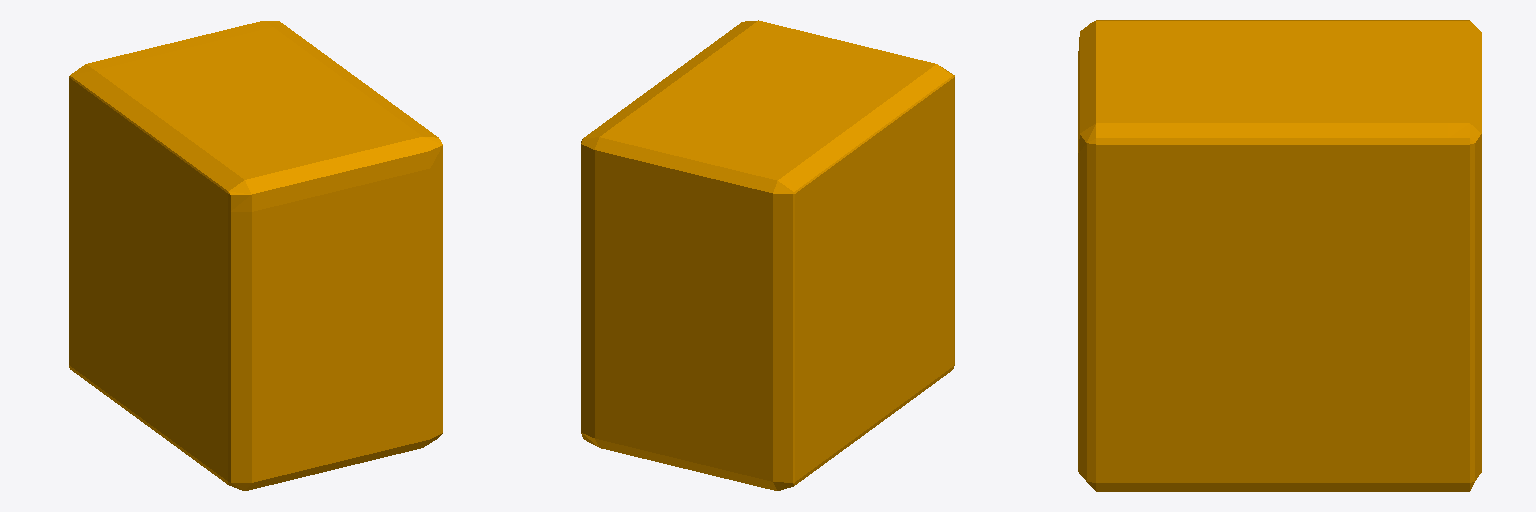
The robot description file, URDF, robot "cylinder_box_66":
<?xml version="1.0" encoding="utf-8"?>  <robot name="cylinder_box_66">   <link name="cylinder_box_66">     <visual>       <geometry>         <mesh filename="../meshes/box/box_66.stl" scale="1 1 1"/>       </geometry>     </visual>     <collision>       <geometry>         <mesh filename="../meshes/box/box_66.stl" scale="1 1 1"/>       </geometry>     </collision>     <inertial>        <origin         xyz="0 0 0"         rpy="0 0 0" />       <mass value="0.550513750887364"/>       <origin rpy="0 0 0" xyz="0 0 0"/>       <inertia ixx="0.0007641373981233494" ixy="9.392570985122598e-08" ixz="9.555541619845875e-08" iyy="0.0005800617281654367" iyz="-1.374518219266368e-07" izz="0.000577745544917714"/>     </inertial>   </link>  </robot>

--- Render facts (derived) ---
The picture shows the robot from 3 angles, left to right: view 1: azimuth 30°, elevation 25°; view 2: azimuth 150°, elevation 25°; view 3: azimuth 270°, elevation 25°; orthographic projection.
Robot: cylinder_box_66 — 1 links, 0 joints (none); root link cylinder_box_66; default pose: every joint at zero.
Links seen in each view (by area): view 1: cylinder_box_66; view 2: cylinder_box_66; view 3: cylinder_box_66.
Boxes of the visible links, x1,y1,x2,y2 form: cylinder_box_66: (69,21,442,490); cylinder_box_66: (581,20,954,490); cylinder_box_66: (1078,20,1481,491).
Size in the robot's own frame: 0.066 by 0.0917 by 0.092 metres.
1 mesh visuals loaded from 1 distinct referenced files (1 binary STL).